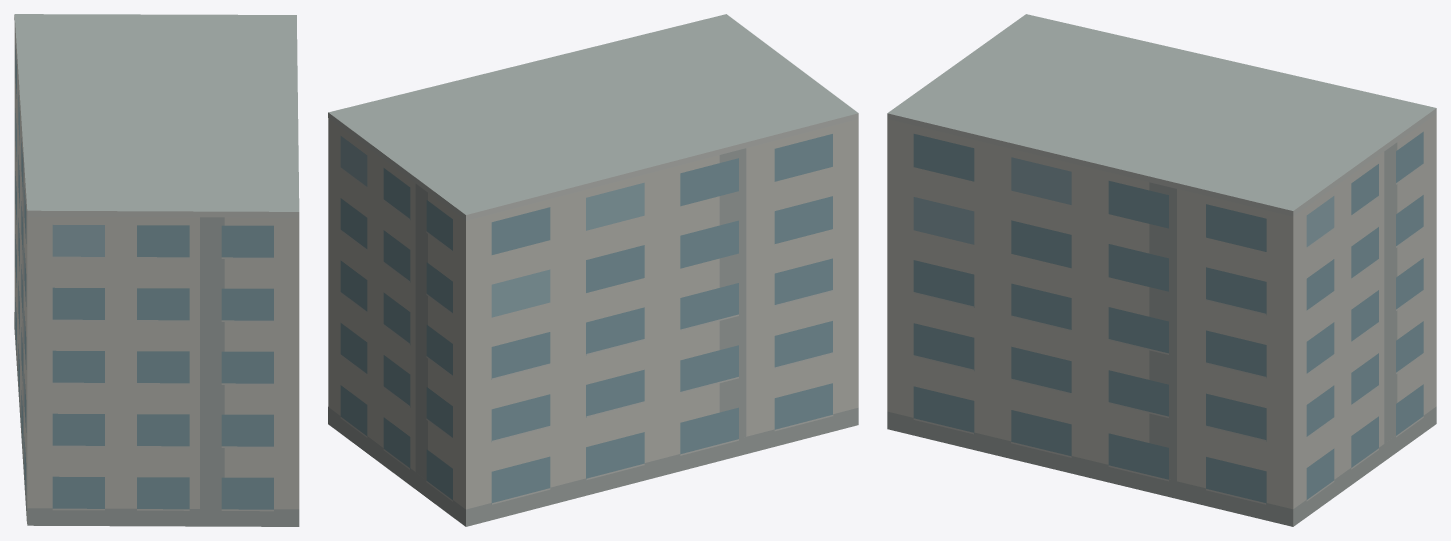
File: survey-upis-32881295.glb
The picture shows the model from 3 angles, left to right: view 1: azimuth 30°, elevation 25°; view 2: azimuth 150°, elevation 25°; view 3: azimuth 270°, elevation 25°; orthographic projection.
Visible parts, largest first — view 1: survey-upis-32881295.tmp; view 2: survey-upis-32881295.tmp; view 3: survey-upis-32881295.tmp.
Boxes of the visible parts, x1=… form: survey-upis-32881295.tmp: x1=14, y1=14, x2=299, y2=526; survey-upis-32881295.tmp: x1=328, y1=14, x2=858, y2=526; survey-upis-32881295.tmp: x1=887, y1=14, x2=1436, y2=526.
Size of the model in its own units: 17.67 by 13.2 by 20.82.
